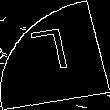L_S: (31, 28, 79, 82)
